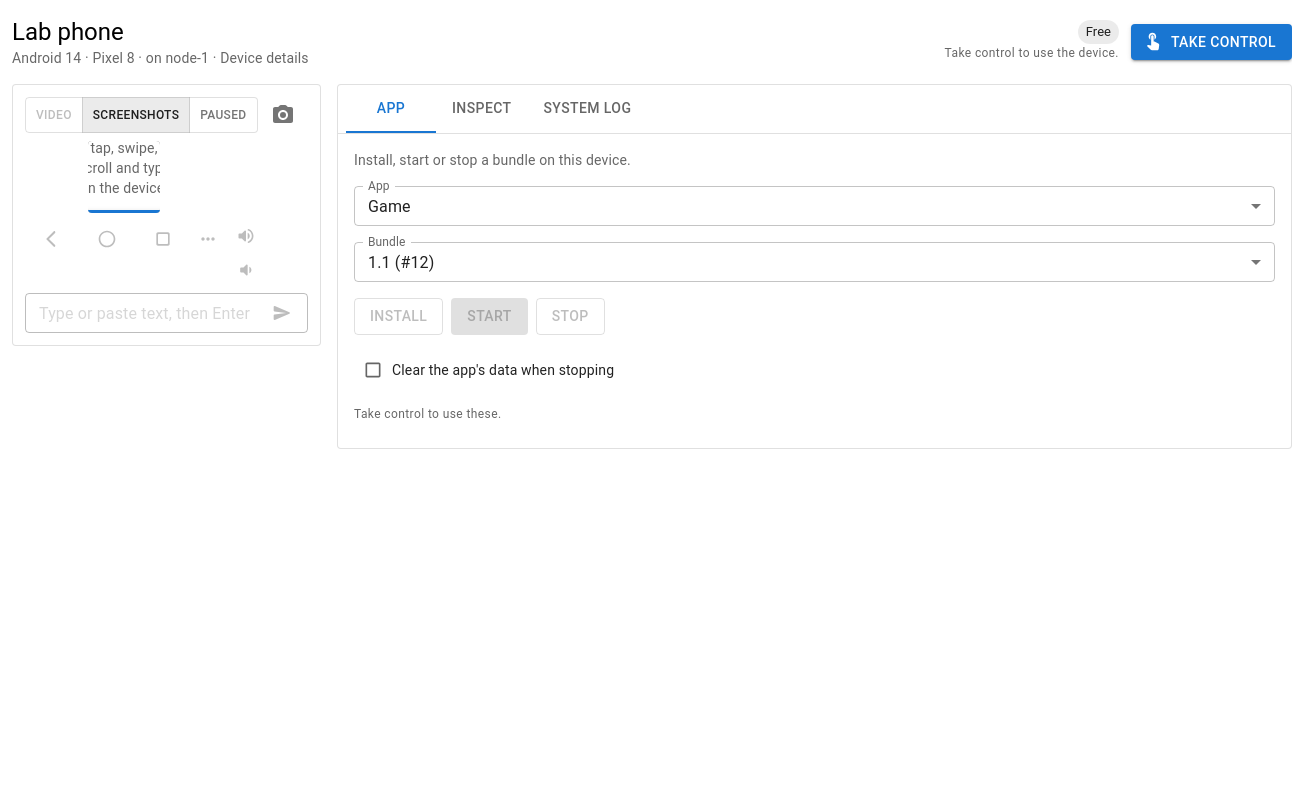
Test case: the control page: saving the screenshot › shows why saving failed
The image size is (1304, 800).
Check: the heading "Lab phone" is shown, box 12,18 -> 124,46
Click the button named "Save a screenshot": (282, 115) 266,98 -> 300,132
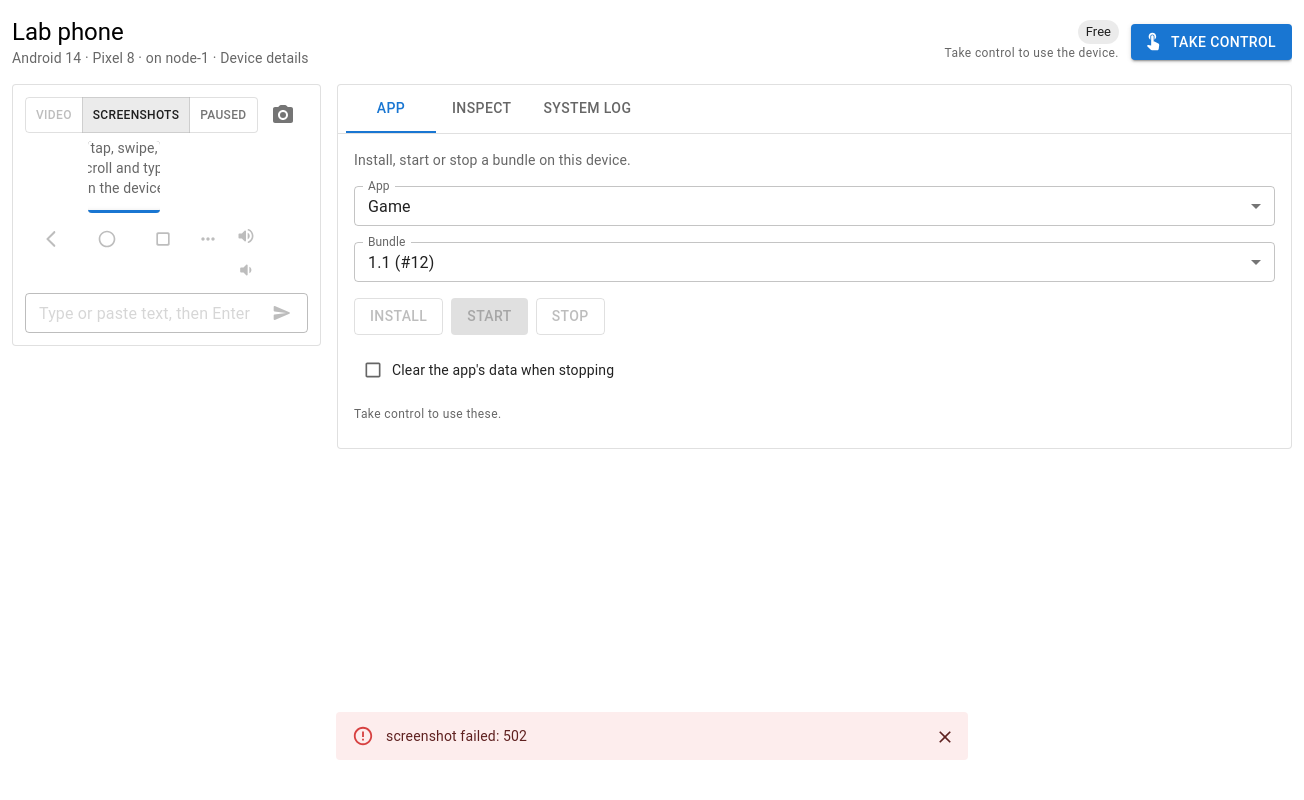
Check: the message reads "screenshot failed: 502", box 386,728 -> 527,744
